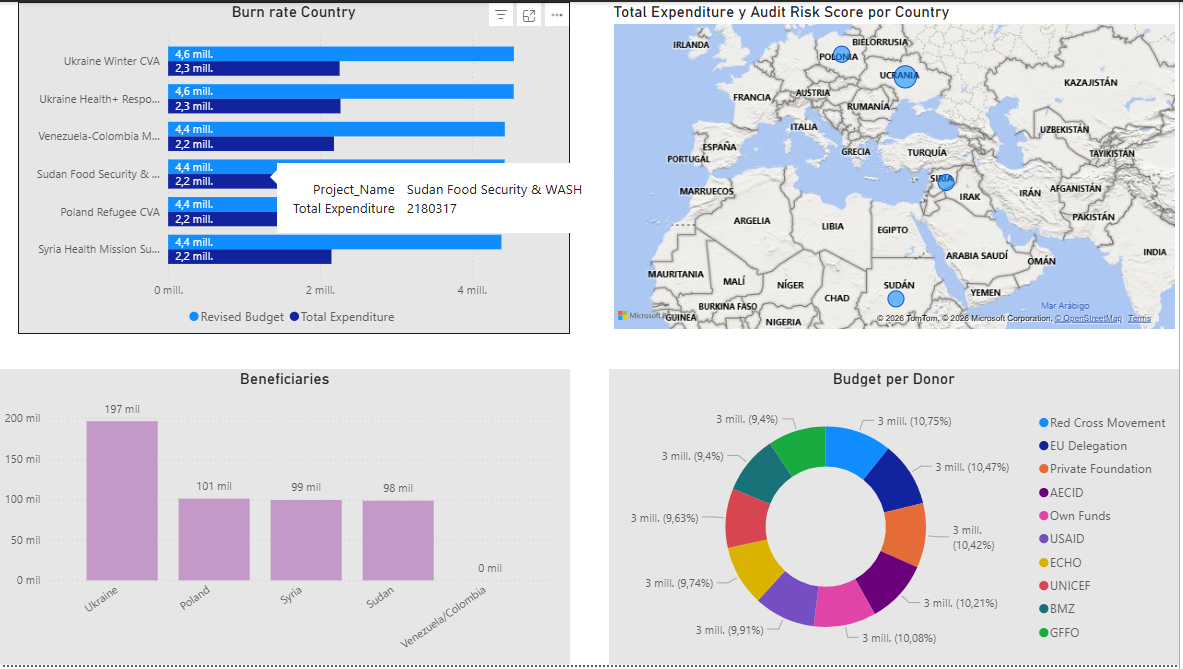

Layout of this report page (visuals, bound fields, positions):
{"tool":"powerbi","page":{"name":"Executive overview","canvas":[1280,720],"ordinal":0},"visuals":[{"type":"clusteredBarChart","title":"Burn rate Country","fields":{"Category":["dim_projects.Project_Name"],"Y":["humanitarian_finance_fact.Revised Budget","humanitarian_finance_fact.Total Expenditure"]},"box":[20,0,598.6,360],"z":0},{"type":"columnChart","title":"Beneficiaries","fields":{"Category":["humanitarian_finance_fact.Country"],"Y":["humanitarian_finance_fact.Beneficiaries Reached"]},"box":[0,398.6,618.6,321.4],"z":1000},{"type":"donutChart","title":"Budget per Donor","fields":{"Category":["humanitarian_finance_fact.Donor_Name"],"Y":["humanitarian_finance_fact.Revised Budget"]},"box":[661.4,398.6,618.6,321.4],"z":2000},{"type":"map","fields":{"Category":["humanitarian_finance_fact.Country"],"Size":["humanitarian_finance_fact.Total Expenditure"]},"box":[661.4,0,618.6,360],"z":3000}]}

Visuals, with their boxes in screenshot pixels (x1, y1, x2, y2), scaled from the page's 1280x720 canvas onto the 1183x669 screenshot:
"Burn rate Country" clusteredBarChart: 18, 0, 572, 334
"Beneficiaries" columnChart: 0, 370, 572, 668
"Budget per Donor" donutChart: 611, 370, 1182, 668
map - humanitarian_finance_fact.Country x humanitarian_finance_fact.Total Expenditure: 611, 0, 1182, 334
